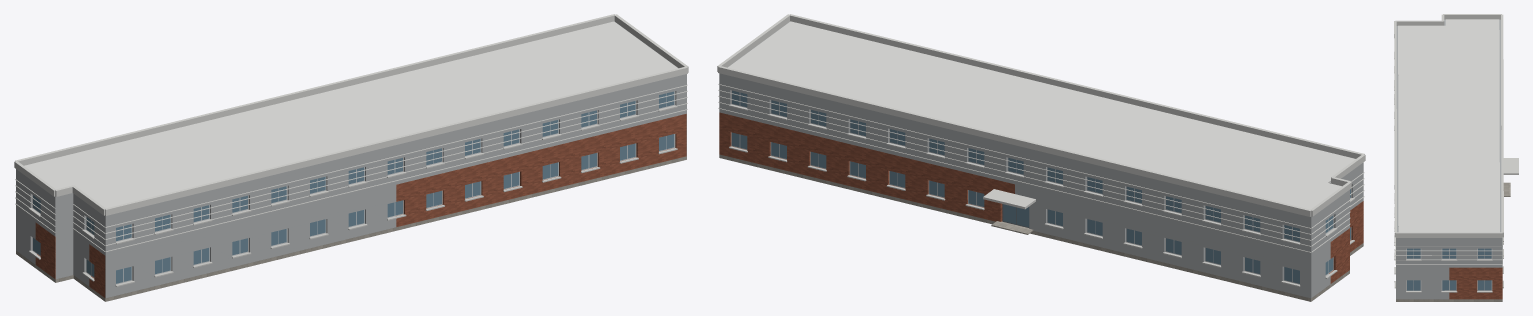
3 renders of one model, left to right at view 1: azimuth 30°, elevation 25°; view 2: azimuth 150°, elevation 25°; view 3: azimuth 270°, elevation 25°, orthographic. The views are drawn at different scales.
Parts seen in each view (by area): view 1: global-hall__whiteroof, global-hall__siding, global-hall__brick, global-hall__cap, global-hall__glass, global-hall__band, global-hall__stone, global-hall__sill, global-hall__lightframe; view 2: global-hall__whiteroof, global-hall__siding, global-hall__brick, global-hall__cap, global-hall__glass, global-hall__band, global-hall__stone, global-hall__sill, global-hall__lightframe; view 3: global-hall__whiteroof, global-hall__siding, global-hall__cap, global-hall__brick, global-hall__glass, global-hall__band, global-hall__sill, global-hall__lightframe, global-hall__stone, global-hall__threshold-north.
Boxes of the visible parts, box(x1,y1,x2,y2) form: global-hall__whiteroof: box(24, 21, 677, 208); global-hall__siding: box(16, 22, 686, 298); global-hall__brick: box(35, 114, 686, 297); global-hall__cap: box(14, 14, 688, 215); global-hall__glass: box(33, 91, 674, 283); global-hall__band: box(15, 84, 687, 251); global-hall__stone: box(16, 156, 686, 301); global-hall__sill: box(28, 105, 677, 286); global-hall__lightframe: box(32, 91, 675, 284); global-hall__whiteroof: box(728, 21, 1355, 209); global-hall__siding: box(719, 22, 1363, 298); global-hall__brick: box(719, 112, 1363, 283); global-hall__cap: box(717, 14, 1365, 216); global-hall__glass: box(732, 90, 1350, 283); global-hall__band: box(718, 83, 1364, 252); global-hall__stone: box(719, 154, 1363, 301); global-hall__sill: box(729, 104, 1354, 286); global-hall__lightframe: box(731, 90, 1351, 284); global-hall__whiteroof: box(1398, 19, 1499, 232); global-hall__siding: box(1396, 19, 1502, 299); global-hall__cap: box(1394, 14, 1518, 237); global-hall__brick: box(1449, 267, 1502, 299); global-hall__glass: box(1407, 248, 1491, 290); global-hall__band: box(1395, 237, 1502, 264); global-hall__sill: box(1394, 52, 1503, 292); global-hall__lightframe: box(1406, 248, 1492, 290); global-hall__stone: box(1396, 299, 1502, 301); global-hall__threshold-north: box(1503, 182, 1510, 196).
Bounding box in the file's own units: 62.3 × 9.16 × 14.98.
Materials: 10 (3 with a texture image).
